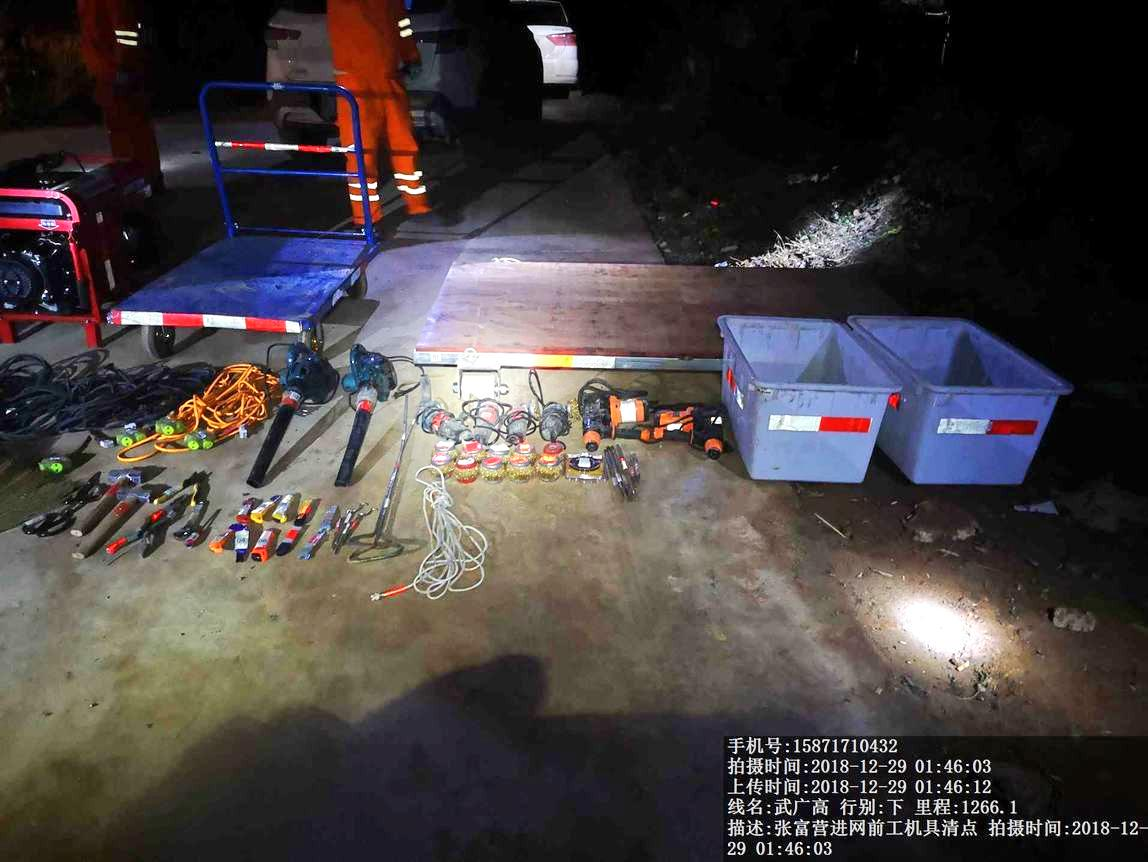DJ: (1, 140, 169, 340)
DMJ: (532, 372, 575, 448), (416, 391, 460, 436), (465, 390, 497, 440), (502, 390, 533, 440)
DX: (131, 364, 268, 464)
DZ: (577, 383, 659, 449), (656, 398, 729, 461)
GFJ: (240, 346, 333, 489), (327, 346, 400, 491)
T: (856, 312, 1068, 490), (716, 315, 900, 486)
TC: (109, 82, 409, 353)
